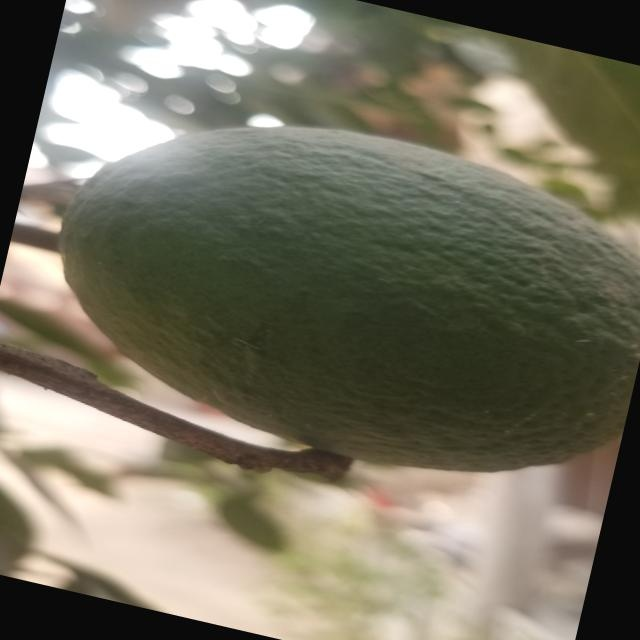agrume: (27, 71, 640, 516)
